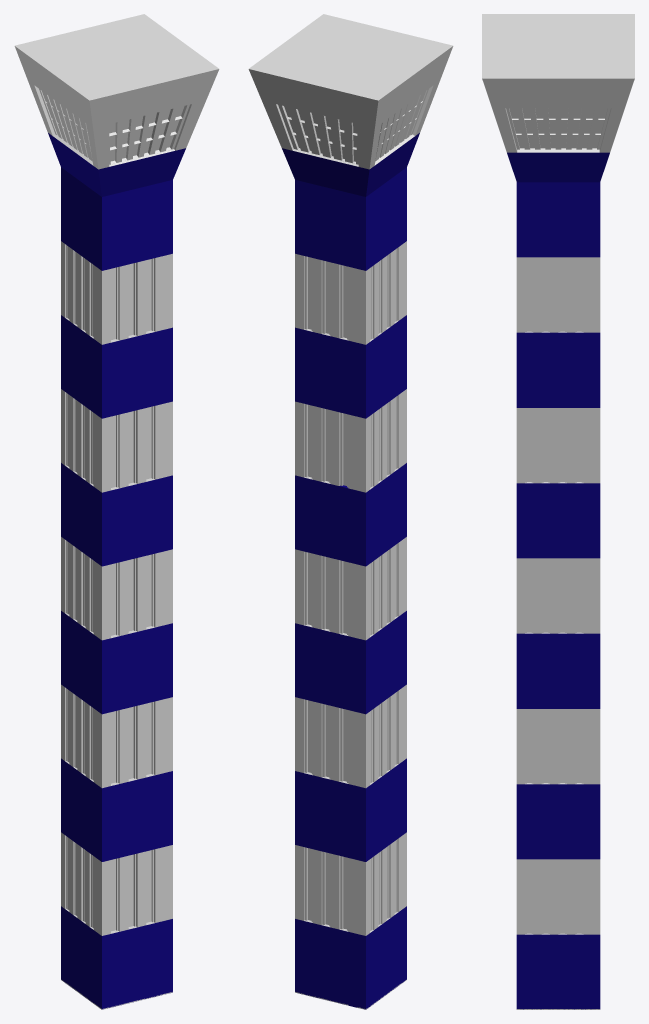
File: 22_st_clement_street.fbx
The picture shows the model from 3 angles, left to right: view 1: azimuth 30°, elevation 25°; view 2: azimuth 150°, elevation 25°; view 3: azimuth 270°, elevation 25°; orthographic projection.
Visible parts, largest first — view 1: Cube; view 2: Cube; view 3: Cube.
Part boxes in pixels (x1,y1,x2,y2): Cube: [14, 14, 219, 1009]; Cube: [248, 14, 453, 1009]; Cube: [482, 14, 634, 1009].
Size of the model in its own units: 293 by 2000 by 293.
